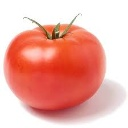tomato: (3, 24, 108, 110)
